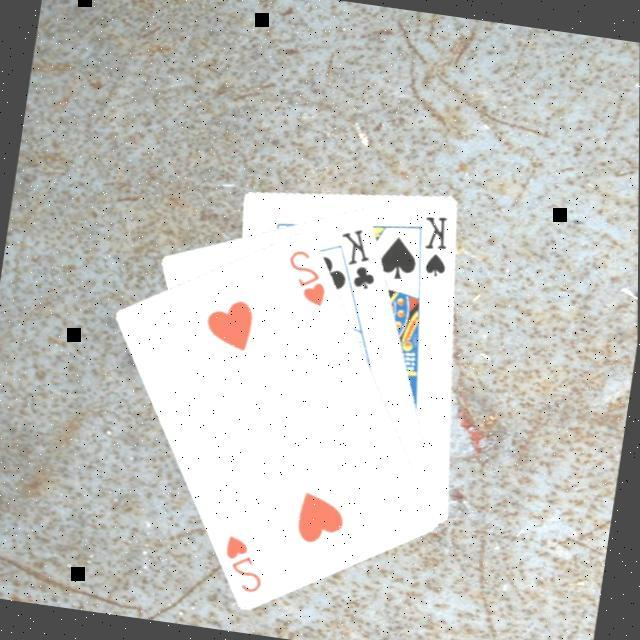2H: (219, 530, 275, 599), (281, 246, 336, 312)
KC: (329, 223, 387, 305)
KS: (417, 211, 459, 283)
